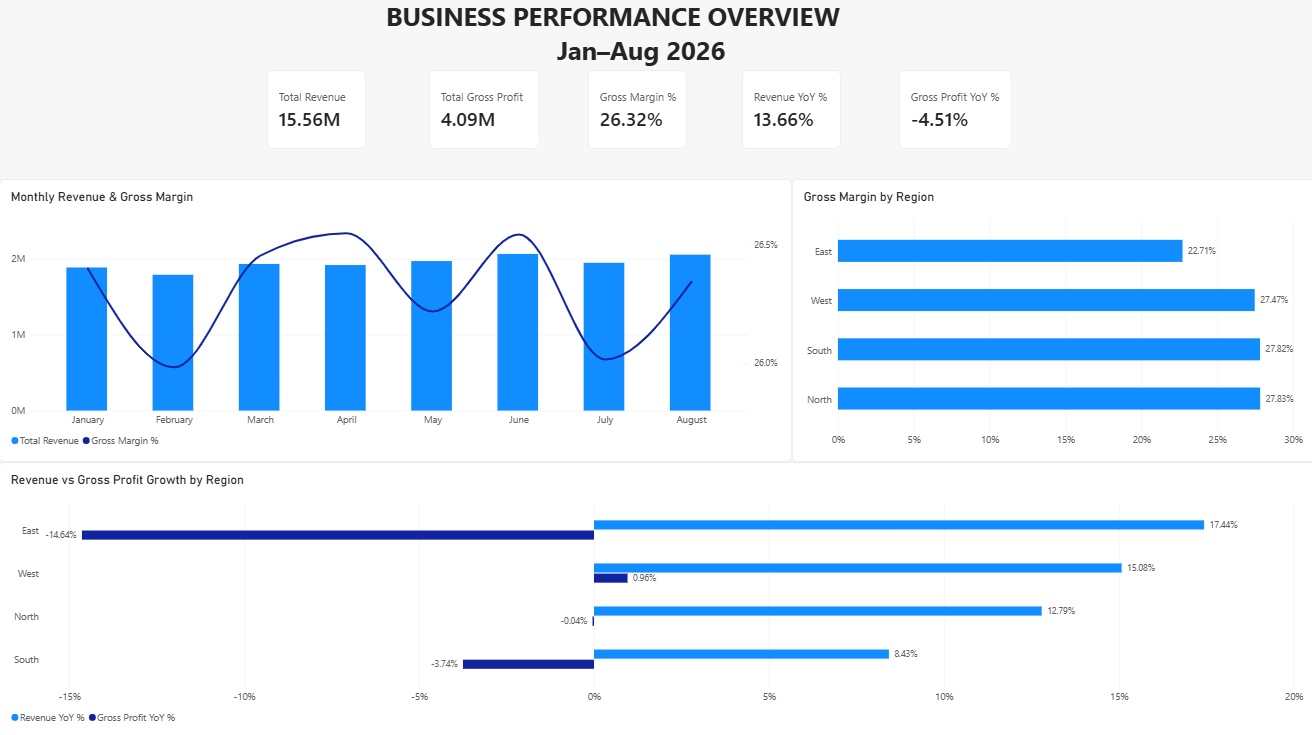

What the dashboard file says about the page in this screenshot:
{"tool":"powerbi","page":{"name":"Executive Performance","canvas":[1920,1080],"ordinal":0},"visuals":[{"type":"cardVisual","fields":{"Data":["sales_analysis1.Total Revenue"]},"box":[391,103.6,144.4,115.3],"z":0},{"type":"lineClusteredColumnComboChart","title":"Monthly Revenue & Gross Margin","fields":{"Y":["sales_analysis1.Total Revenue"],"Y2":["sales_analysis1.Gross Margin %"],"Category":["Calendar.Date.Variation.Date Hierarchy.Month"]},"box":[0,262.6,1157,412.9],"z":6},{"type":"clusteredBarChart","title":"Gross Margin by Region","fields":{"Category":["sales_analysis1.region"],"Y":["sales_analysis1.Gross Margin %"]},"box":[1157,262.6,763,412.9],"z":7},{"type":"clusteredBarChart","title":"Revenue vs Gross Profit Growth by Region","fields":{"Category":["sales_analysis1.region"],"Y":["sales_analysis1.Revenue YoY %","sales_analysis1.Gross Profit YoY %"]},"box":[0,675.5,1920,404.1],"z":8},{"type":"textbox","box":[264.1,0,1375.8,103.6],"z":9},{"type":"cardVisual","fields":{"Data":["sales_analysis1.Gross Profit YoY %"]},"box":[1313.1,103.6,164.9,115.3],"z":10},{"type":"cardVisual","fields":{"Data":["sales_analysis1.Revenue YoY %"]},"box":[1084,103.6,144.4,115.3],"z":11},{"type":"cardVisual","fields":{"Data":["sales_analysis1.Gross Margin %"]},"box":[859.3,103.6,144.4,115.3],"z":12},{"type":"cardVisual","fields":{"Data":["sales_analysis1.Total Gross Profit"]},"box":[627.4,103.6,161.9,115.3],"z":13}]}

Visuals, with their boxes in screenshot pixels (x1, y1, x2, y2), scaled from the page's 1920x1080 canvas onto the 1312x735 screenshot:
cardVisual - sales_analysis1.Total Revenue: [left=267, top=71, right=366, bottom=149]
"Monthly Revenue & Gross Margin" lineClusteredColumnComboChart: [left=0, top=179, right=791, bottom=460]
"Gross Margin by Region" clusteredBarChart: [left=791, top=179, right=1311, bottom=460]
"Revenue vs Gross Profit Growth by Region" clusteredBarChart: [left=0, top=460, right=1311, bottom=734]
textbox: [left=180, top=0, right=1121, bottom=71]
cardVisual - sales_analysis1.Gross Profit YoY %: [left=897, top=71, right=1010, bottom=149]
cardVisual - sales_analysis1.Revenue YoY %: [left=741, top=71, right=839, bottom=149]
cardVisual - sales_analysis1.Gross Margin %: [left=587, top=71, right=686, bottom=149]
cardVisual - sales_analysis1.Total Gross Profit: [left=429, top=71, right=539, bottom=149]
